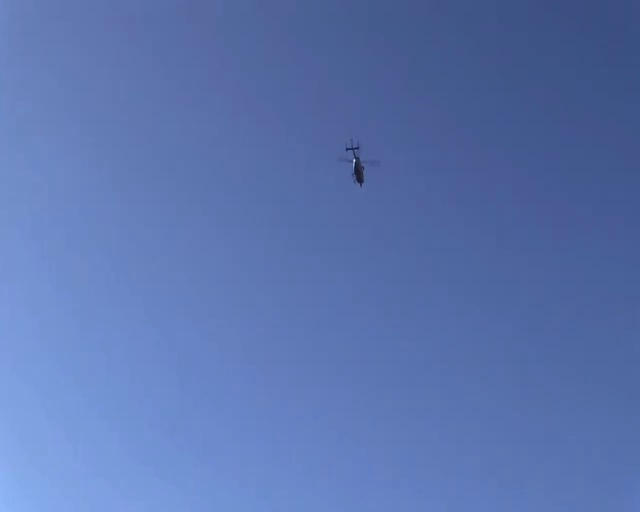HELICOPTER: (337, 136, 381, 187)
